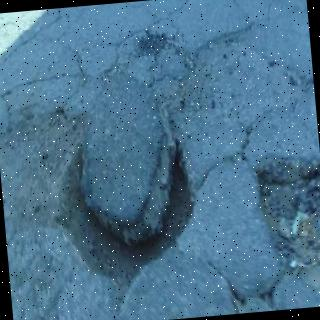pothole: (57, 101, 197, 317), (253, 155, 320, 291)
